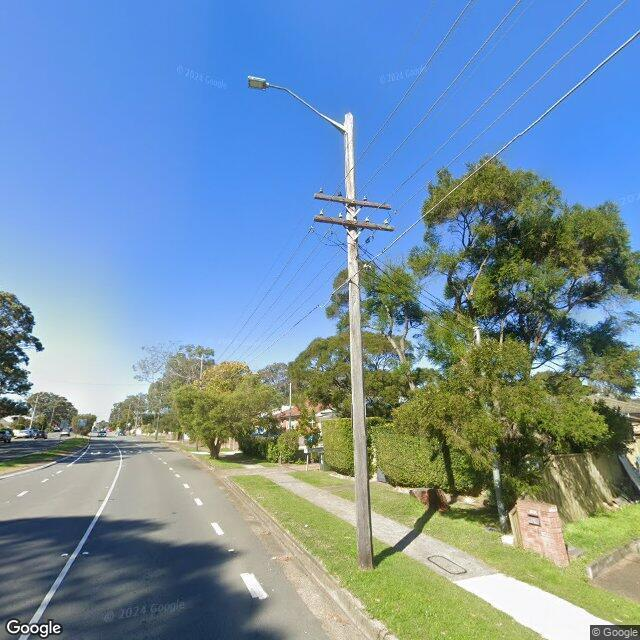crossarm: (313, 192, 392, 210), (313, 215, 394, 232)
streetlight: (246, 74, 346, 134)
timber-pole: (344, 111, 374, 571), (473, 324, 508, 532), (196, 354, 205, 451), (154, 381, 164, 441), (29, 394, 39, 429), (289, 382, 292, 430)
